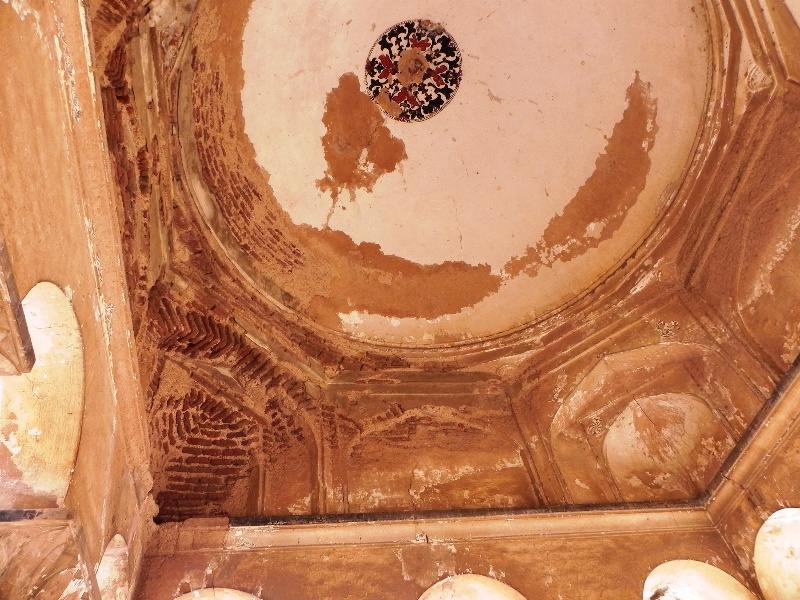Exposed Bricks: (145, 282, 299, 515)
Spalling: (528, 66, 667, 269)
